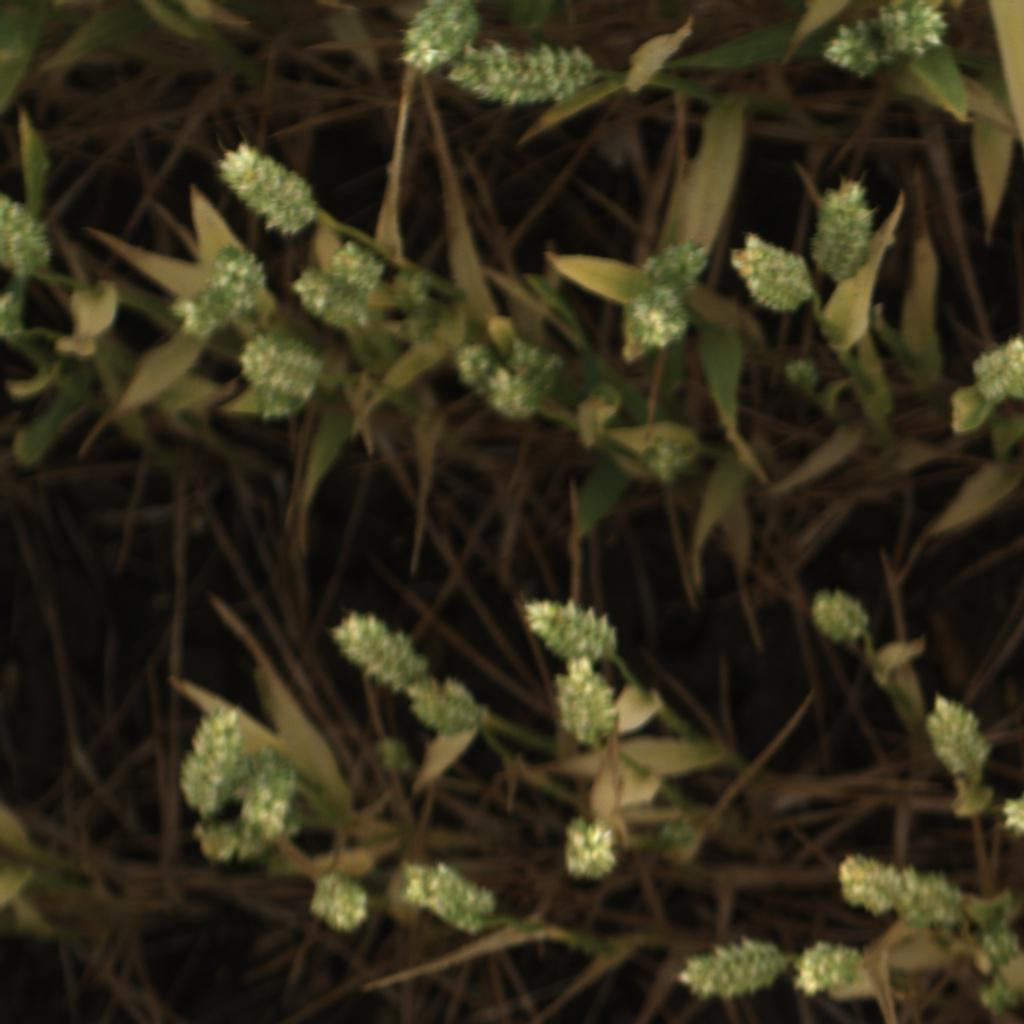0-0: (450, 36, 600, 110), (212, 137, 322, 234), (326, 601, 431, 699), (174, 699, 251, 820), (397, 853, 502, 939), (808, 176, 888, 284), (454, 342, 548, 430), (671, 932, 788, 1000), (517, 587, 624, 661), (727, 227, 815, 316), (914, 688, 995, 783), (546, 654, 621, 749), (628, 229, 720, 301), (240, 745, 306, 842), (238, 334, 327, 405), (408, 667, 491, 741), (799, 581, 878, 654), (392, 5, 477, 70), (892, 863, 967, 933), (795, 931, 872, 999), (623, 282, 693, 355), (291, 265, 367, 332), (831, 840, 895, 919), (875, 1, 952, 64), (0, 190, 53, 281), (306, 867, 372, 938), (820, 16, 889, 83), (163, 276, 236, 339), (190, 814, 279, 865), (970, 328, 1024, 411), (560, 815, 617, 886), (208, 242, 268, 309), (329, 229, 391, 292), (384, 263, 435, 317), (971, 972, 1020, 1019), (975, 920, 1020, 968), (371, 735, 418, 775), (646, 440, 686, 484), (1, 286, 33, 337), (656, 813, 697, 852), (784, 353, 820, 393), (994, 793, 1024, 838)
